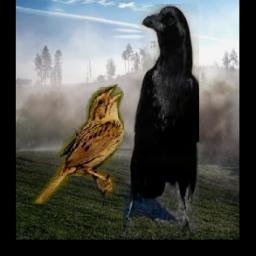Crow: (124, 5, 200, 238)
Sparrow: (31, 85, 124, 205)
